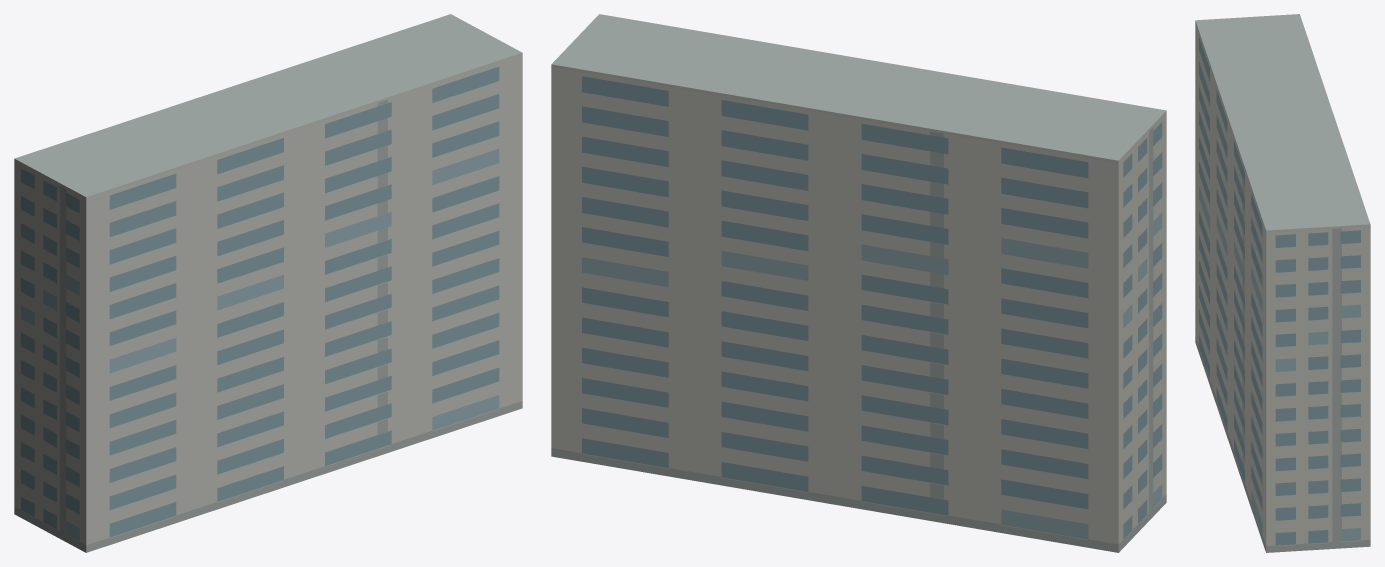
File: residential-1313a4ae-8301-4f6e-826a-9ce884010e56.glb
3 views of the same model, side by side, from view 1: azimuth 30°, elevation 25°; view 2: azimuth 150°, elevation 25°; view 3: azimuth 270°, elevation 25° (orthographic). The views are drawn at different scales.
Parts seen in each view (by area): view 1: residential-1313a4ae-8301-4f6e-826a-9ce884010e56.tmp; view 2: residential-1313a4ae-8301-4f6e-826a-9ce884010e56.tmp; view 3: residential-1313a4ae-8301-4f6e-826a-9ce884010e56.tmp.
Boxes of the visible parts, box(x1,y1,x2,y2) form: residential-1313a4ae-8301-4f6e-826a-9ce884010e56.tmp: box(14, 14, 522, 552); residential-1313a4ae-8301-4f6e-826a-9ce884010e56.tmp: box(551, 14, 1166, 552); residential-1313a4ae-8301-4f6e-826a-9ce884010e56.tmp: box(1195, 14, 1370, 552).
Size of the model in its own units: 51.87 by 36 by 17.73.
